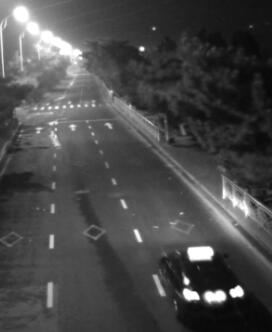car: (159, 245, 245, 318)
